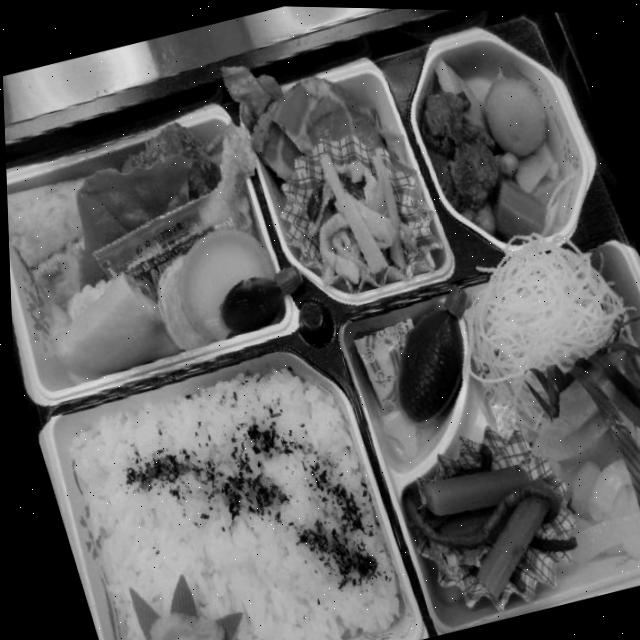米饭主食: (25, 342, 406, 640)
